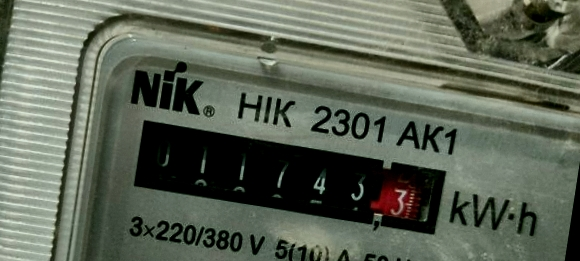0: (150, 133, 174, 171)
1: (232, 146, 252, 182), (195, 141, 210, 175)
3: (344, 167, 368, 204), (386, 185, 409, 220)
4: (308, 161, 329, 197)
7: (269, 154, 292, 190)
screen: (116, 106, 460, 249)
